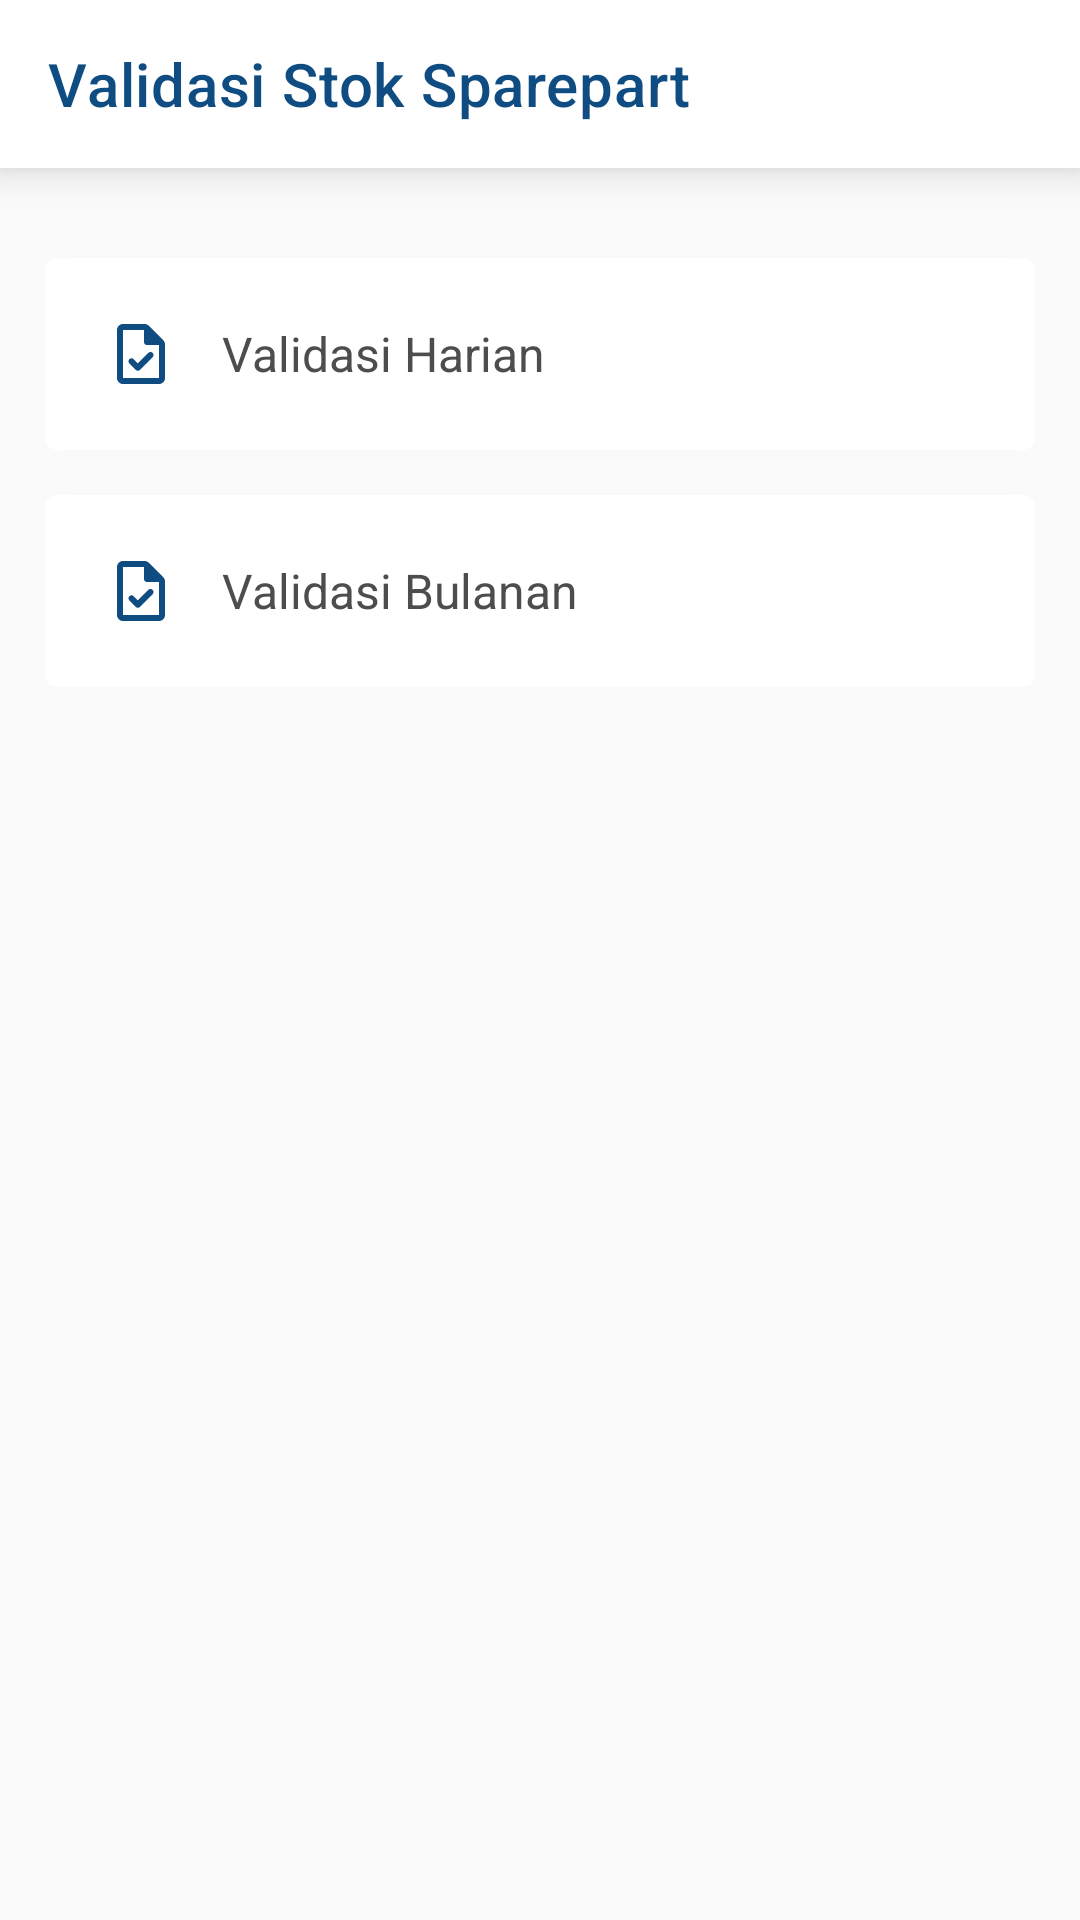

Screen size 1080w x 1920h. Icon name, then its center in pixels as (x=x, y=y):
task: (x=141, y=354), (x=141, y=591)
